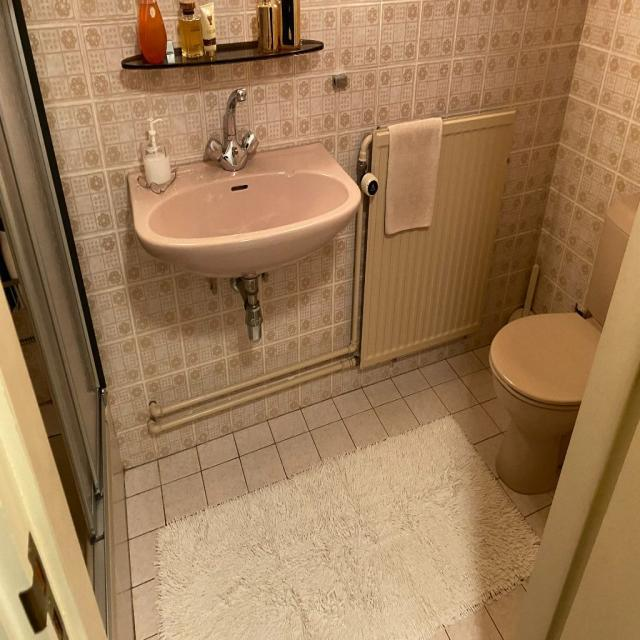douche: (0, 0, 136, 640)
toilet: (490, 190, 640, 497)
wastafel: (126, 86, 362, 344)
